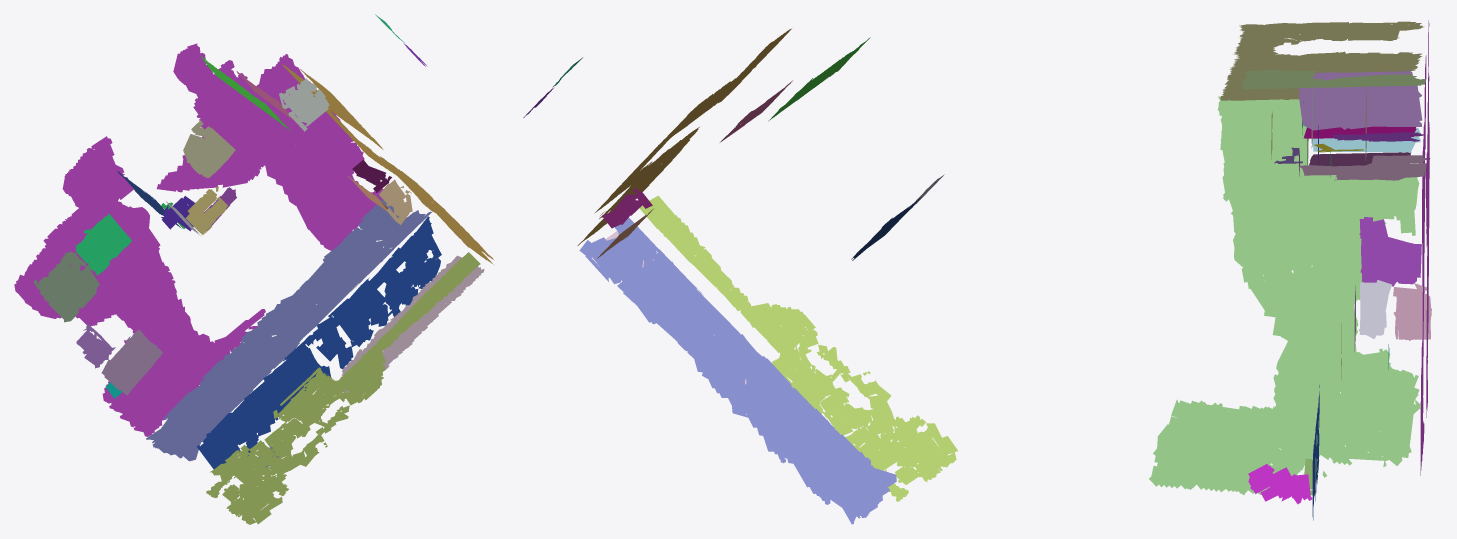
File: scene0338_00_simple.glb
3 renders of one model, left to right at view 1: azimuth 30°, elevation 25°; view 2: azimuth 150°, elevation 25°; view 3: azimuth 270°, elevation 25°, orthographic. The views are drawn at different scales.
Size of the model in its own units: 5.25 by 4.47 by 2.34.
